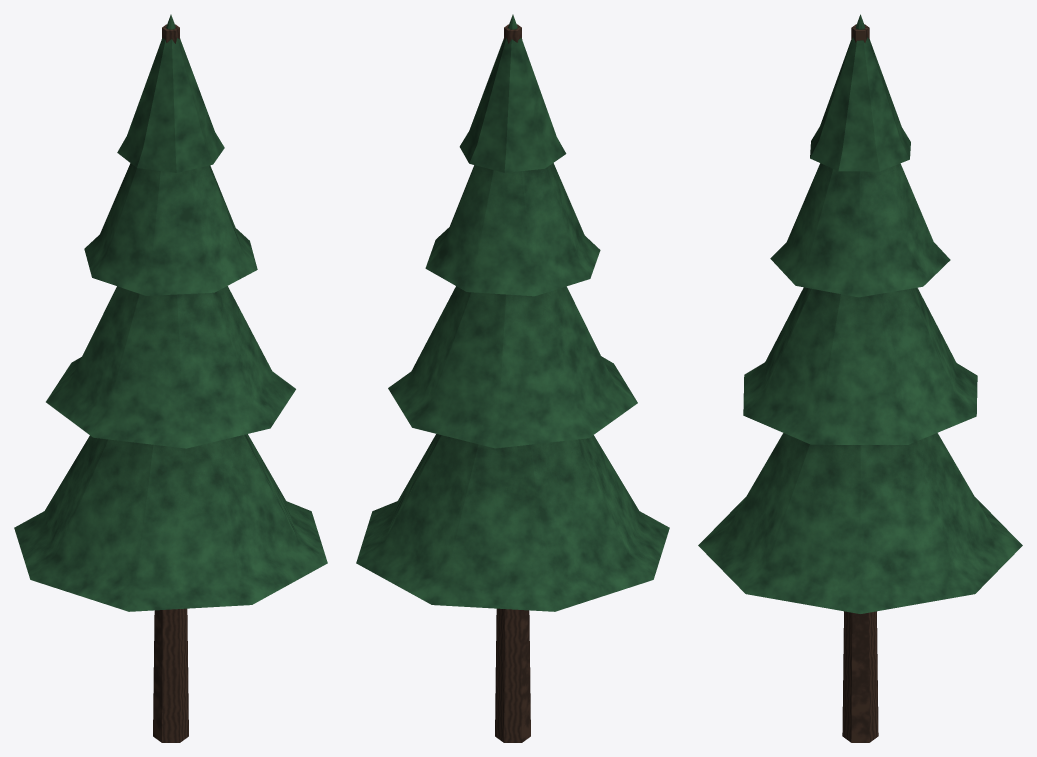
File: cedar_tree.fbx
3 renders of one model, left to right at view 1: azimuth 30°, elevation 25°; view 2: azimuth 150°, elevation 25°; view 3: azimuth 270°, elevation 25°, orthographic.
Parts seen in each view (by area): view 1: cedar_tree; view 2: cedar_tree; view 3: cedar_tree.
Boxes of the visible parts, bbox=[...] form: cedar_tree: bbox=[14, 14, 327, 742]; cedar_tree: bbox=[356, 14, 669, 742]; cedar_tree: bbox=[698, 14, 1022, 742].
Bounding box in the file's own units: 1080 × 2650 × 1080.
1 material, 1 textured.
